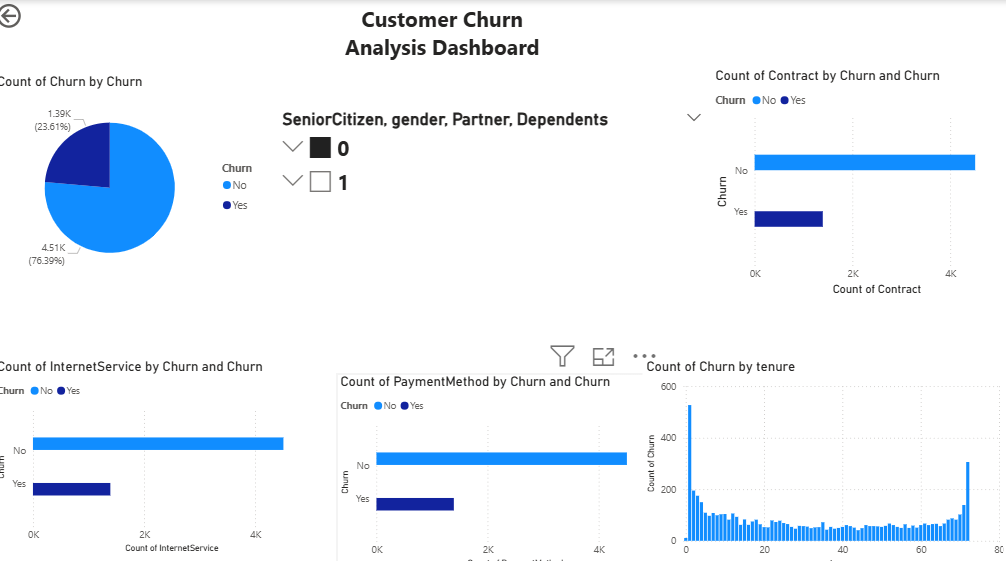

This screenshot's page, from the dashboard's own definition file:
{"tool":"powerbi","page":{"name":"Page 1","canvas":[1280,720],"ordinal":0},"visuals":[{"type":"pieChart","fields":{"Category":["WA_Fn-UseC_-Telco-Customer-Churn.Churn"],"Y":["CountNonNull(WA_Fn-UseC_-Telco-Customer-Churn.Churn)"]},"box":[0,92.6,351.5,266.5],"z":0},{"type":"clusteredBarChart","fields":{"Series":["WA_Fn-UseC_-Telco-Customer-Churn.Churn"],"Y":["CountNonNull(WA_Fn-UseC_-Telco-Customer-Churn.Contract)"],"Category":["WA_Fn-UseC_-Telco-Customer-Churn.Churn"]},"box":[905.2,85,374.2,291],"z":1000},{"type":"actionButton","box":[0,0,100,40],"z":2000},{"type":"clusteredBarChart","fields":{"Y":["CountNonNull(WA_Fn-UseC_-Telco-Customer-Churn.InternetService)"],"Series":["WA_Fn-UseC_-Telco-Customer-Churn.Churn"],"Category":["WA_Fn-UseC_-Telco-Customer-Churn.Churn"]},"box":[0,451.7,412,249.5],"z":3000},{"type":"clusteredBarChart","fields":{"Y":["CountNonNull(WA_Fn-UseC_-Telco-Customer-Churn.PaymentMethod)"],"Series":["WA_Fn-UseC_-Telco-Customer-Churn.Churn"],"Category":["WA_Fn-UseC_-Telco-Customer-Churn.Churn"]},"box":[432.8,470.6,412,249.5],"z":4000},{"type":"lineStackedColumnComboChart","fields":{"Category":["WA_Fn-UseC_-Telco-Customer-Churn.tenure"],"Y":["CountNonNull(WA_Fn-UseC_-Telco-Customer-Churn.Churn)"]},"box":[818.3,451.7,461.1,268.3],"z":5000},{"type":"textbox","box":[432.8,0,266.5,132.3],"z":6000},{"type":"slicer","fields":{"Values":["WA_Fn-UseC_-Telco-Customer-Churn.SeniorCitizen","WA_Fn-UseC_-Telco-Customer-Churn.gender","WA_Fn-UseC_-Telco-Customer-Churn.Partner","WA_Fn-UseC_-Telco-Customer-Churn.Dependents"]},"box":[351.5,132.3,553.7,285.4],"z":7000}]}

Visuals, with their boxes in screenshot pixels (x1, y1, x2, y2), scaled from the page's 1280x720 canvas onto the 1006x561 screenshot:
pieChart - WA_Fn-UseC_-Telco-Customer-Churn.Churn x CountNonNull(WA_Fn-UseC_-Telco-Customer-Churn.Churn): crop(0, 72, 276, 280)
clusteredBarChart - WA_Fn-UseC_-Telco-Customer-Churn.Churn x CountNonNull(WA_Fn-UseC_-Telco-Customer-Churn.Contract): crop(711, 66, 1005, 293)
actionButton: crop(0, 0, 79, 31)
clusteredBarChart - CountNonNull(WA_Fn-UseC_-Telco-Customer-Churn.InternetService) x WA_Fn-UseC_-Telco-Customer-Churn.Churn: crop(0, 352, 324, 546)
clusteredBarChart - CountNonNull(WA_Fn-UseC_-Telco-Customer-Churn.PaymentMethod) x WA_Fn-UseC_-Telco-Customer-Churn.Churn: crop(340, 367, 664, 560)
lineStackedColumnComboChart - WA_Fn-UseC_-Telco-Customer-Churn.tenure x CountNonNull(WA_Fn-UseC_-Telco-Customer-Churn.Churn): crop(643, 352, 1005, 560)
textbox: crop(340, 0, 550, 103)
slicer - WA_Fn-UseC_-Telco-Customer-Churn.SeniorCitizen x WA_Fn-UseC_-Telco-Customer-Churn.gender: crop(276, 103, 711, 325)
